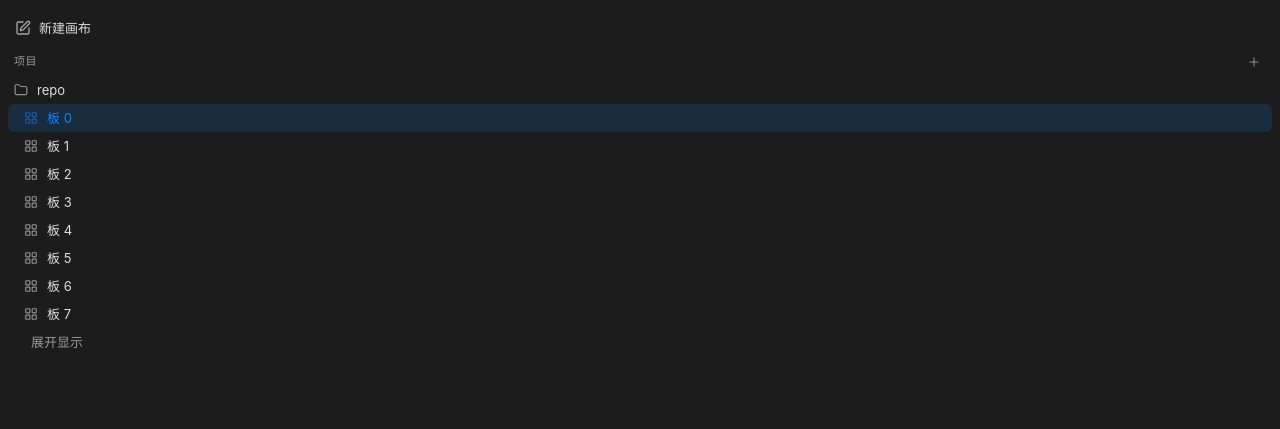
Test case: WorkspaceTree › 超过 8 块板时末尾给「展开显示」
This screenshot has width=1280, height=429.
Expected: the text "板 0" is shown, [47,109,72,127]
Expected: the text "板 7" is shown, [47,305,71,323]
What coordinates should you click on to do the following:
click the button "展开显示"
I would click on:
 (57, 342)
Its box is [24,328,1272,356].
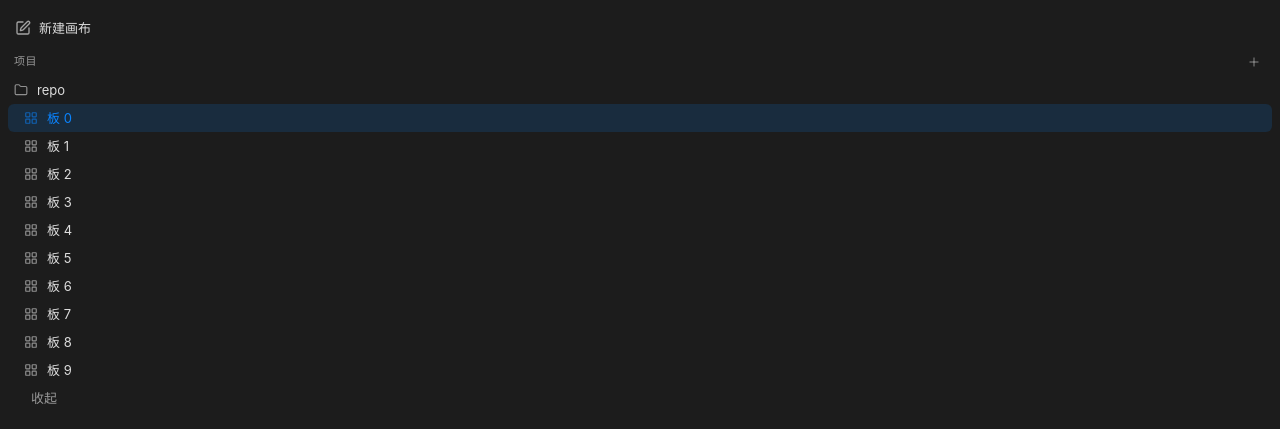
Expected: the text "板 9" is shown, [47,361,72,379]
Expected: the button "收起" is shown, [24,384,1272,412]
